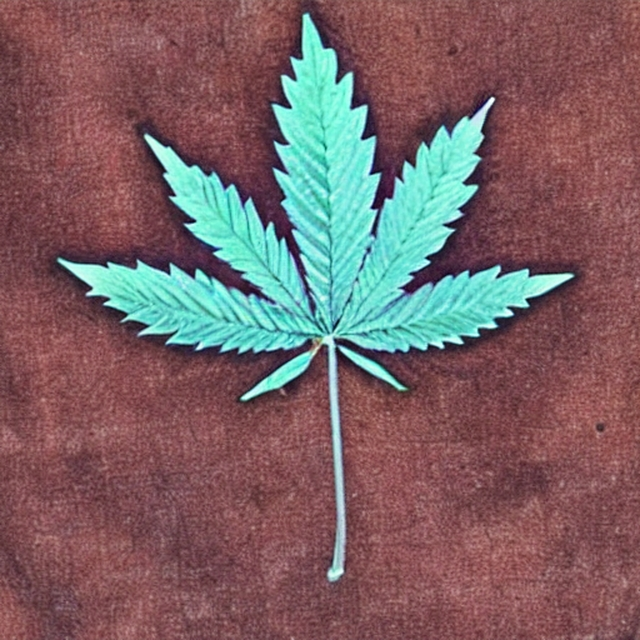Marijuana Leaf: (54, 10, 575, 582)
